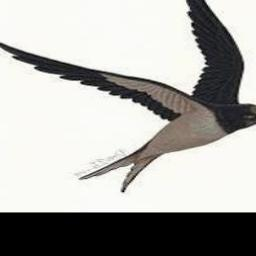Swallow: (0, 0, 256, 191)
